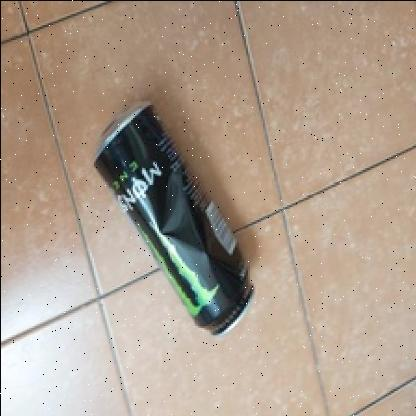Can: (75, 93, 278, 345)
